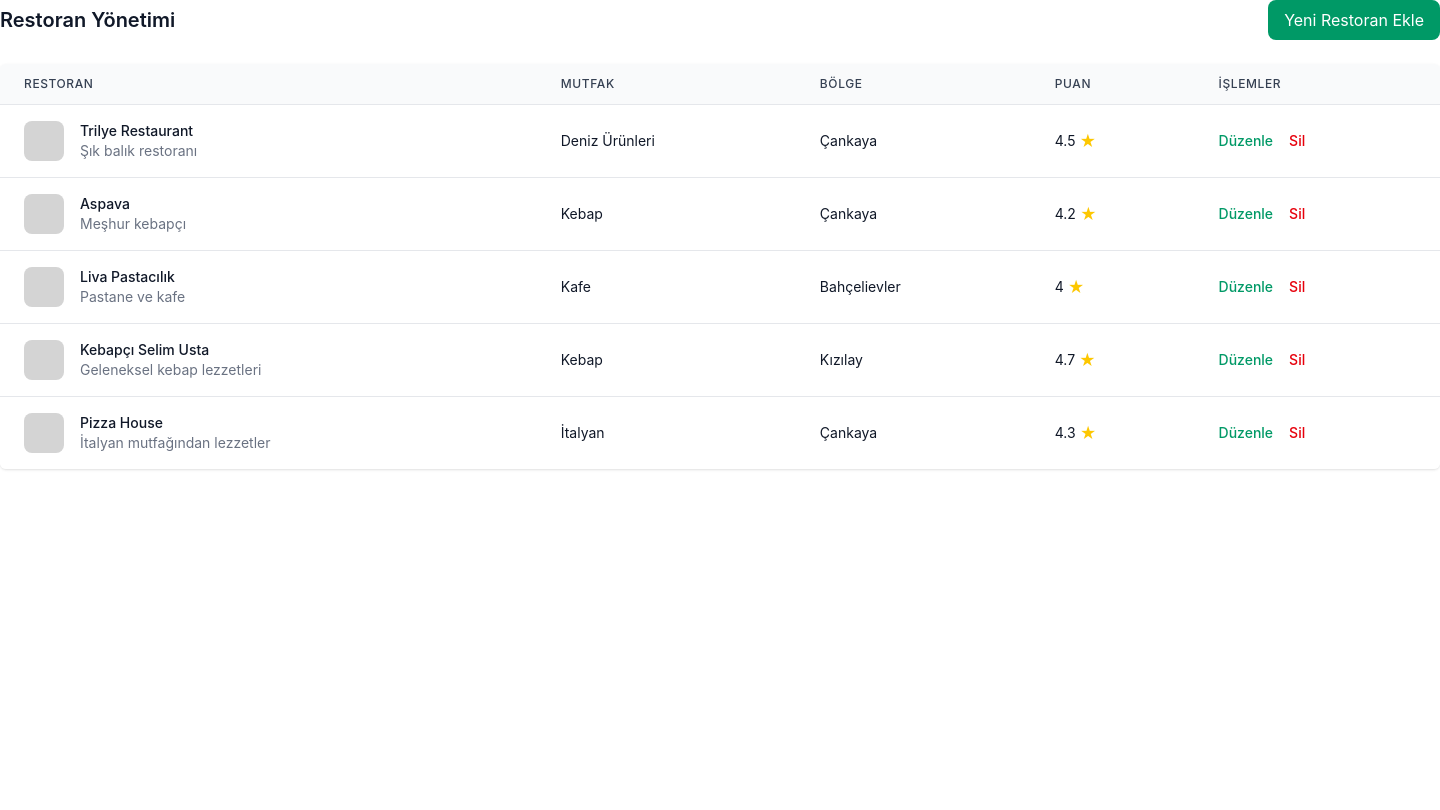
Test: Admin CRUD Integration Tests › Restaurant Management › should handle restaurant editing
Click the button "Düzenle" in the row of "Trilye Restaurant": (1246, 141) x1=1219 y1=131 x2=1273 y2=151
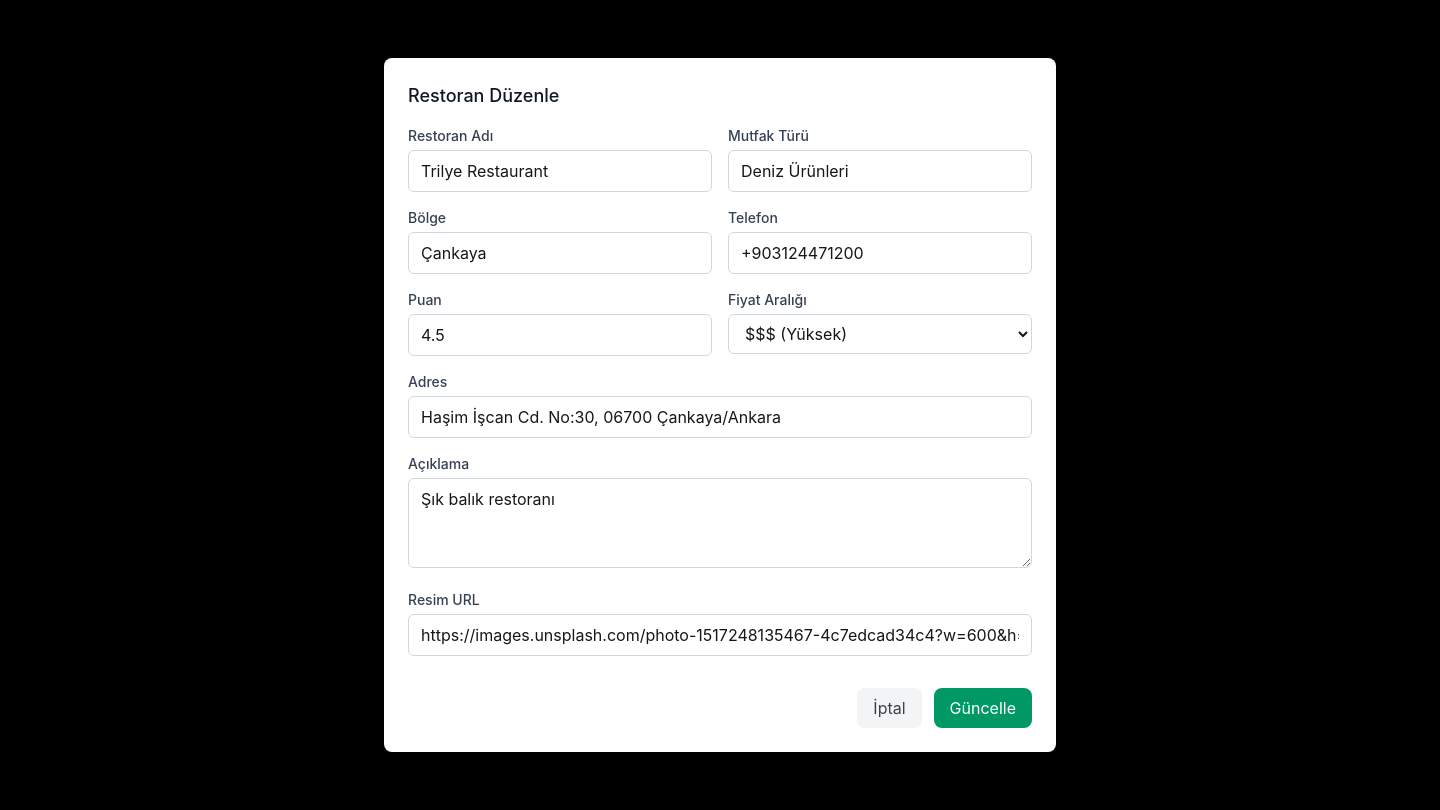
Expected: the heading "Restoran Düzenle" is shown, x1=408 y1=85 x2=559 y2=106
